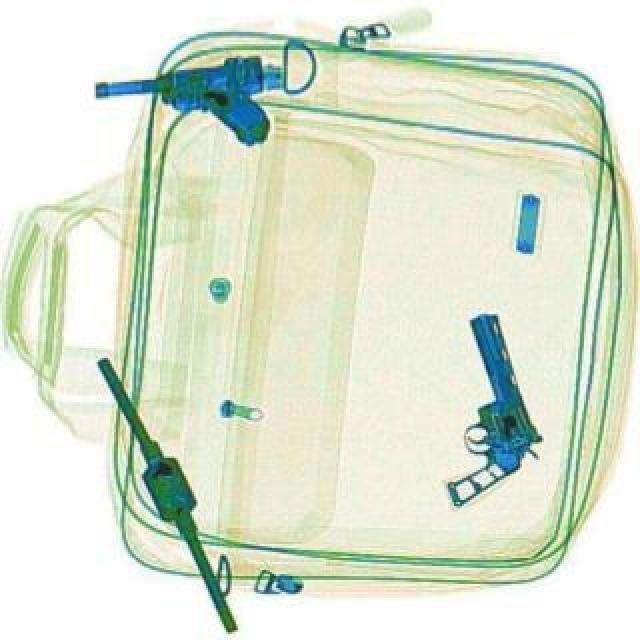gun: (396, 308, 556, 508), (90, 52, 272, 160)
